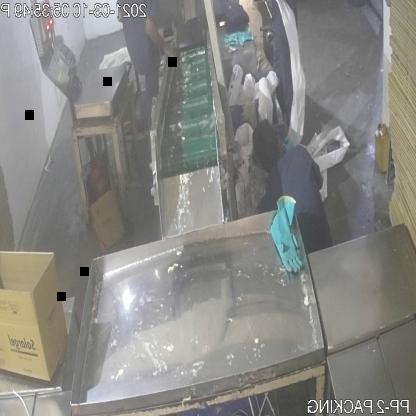no_glove: (139, 18, 183, 66)
